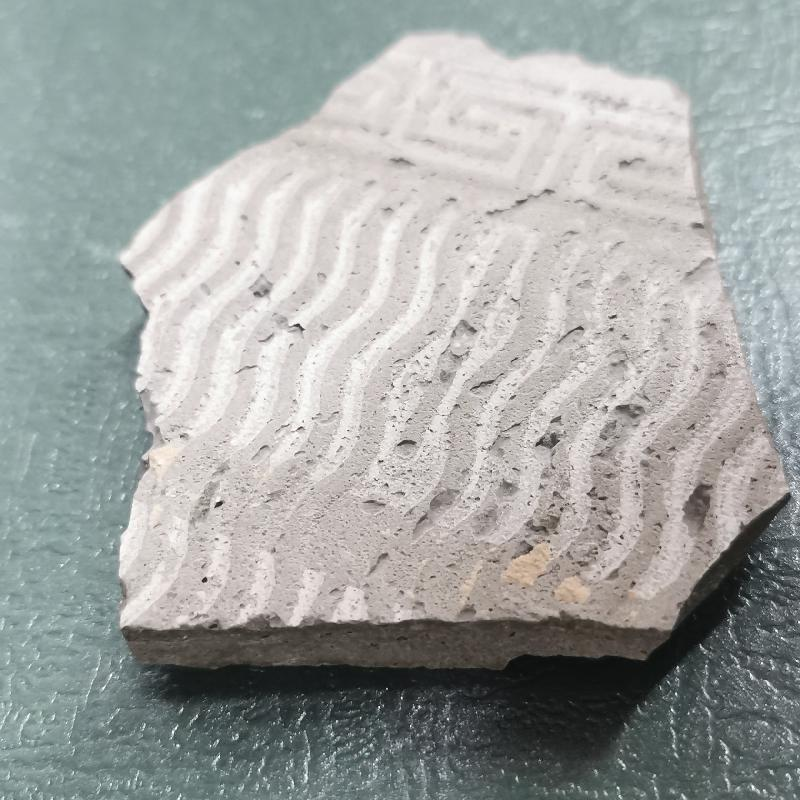tile: (110, 23, 791, 681)
